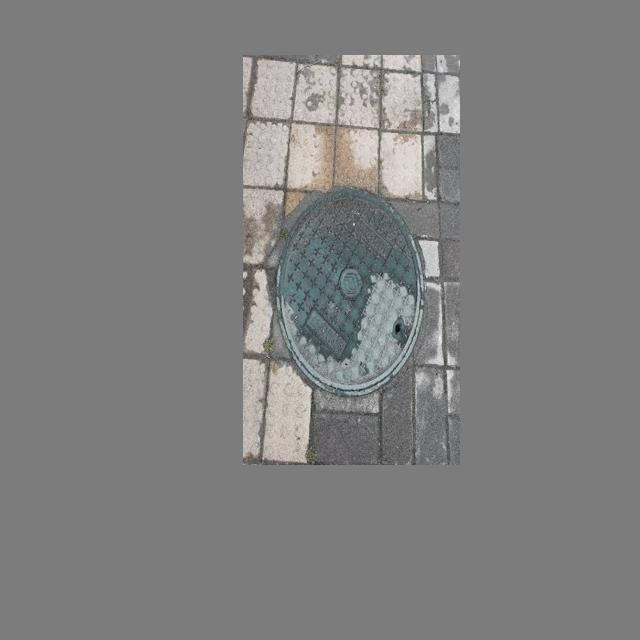good: (276, 187, 424, 397)
